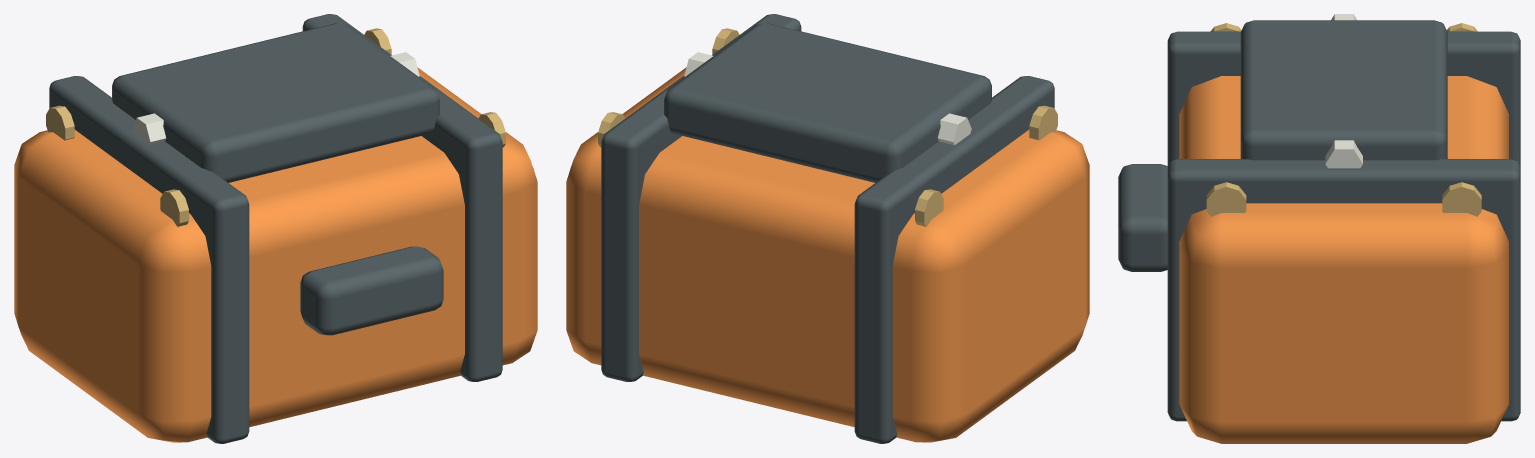
The model's file is castaway-island-escape-flight-recorder-case-dc47e999__28053.glb.
3 renders of one model, left to right at view 1: azimuth 30°, elevation 25°; view 2: azimuth 150°, elevation 25°; view 3: azimuth 270°, elevation 25°, orthographic. The views are drawn at different scales.
Visible parts, largest first — view 1: flight-recorder-case-orange, flight-recorder-case-iron, flight-recorder-case-brass, flight-recorder-case-ivory; view 2: flight-recorder-case-orange, flight-recorder-case-iron, flight-recorder-case-brass, flight-recorder-case-ivory; view 3: flight-recorder-case-orange, flight-recorder-case-iron, flight-recorder-case-brass, flight-recorder-case-ivory.
Part boxes in pixels (x1=…): flight-recorder-case-orange: x1=14, y1=67, x2=537, y2=442; flight-recorder-case-iron: x1=49, y1=14, x2=502, y2=443; flight-recorder-case-brass: x1=46, y1=28, x2=505, y2=226; flight-recorder-case-ivory: x1=132, y1=52, x2=419, y2=145; flight-recorder-case-orange: x1=566, y1=67, x2=1089, y2=442; flight-recorder-case-iron: x1=601, y1=14, x2=1054, y2=443; flight-recorder-case-brass: x1=598, y1=28, x2=1057, y2=226; flight-recorder-case-ivory: x1=684, y1=52, x2=971, y2=145; flight-recorder-case-orange: x1=1179, y1=76, x2=1508, y2=443; flight-recorder-case-iron: x1=1118, y1=20, x2=1520, y2=421; flight-recorder-case-brass: x1=1206, y1=23, x2=1481, y2=216; flight-recorder-case-ivory: x1=1325, y1=14, x2=1362, y2=168.
Bounding box in the file's own units: 0.5 × 0.335 × 0.4275.
